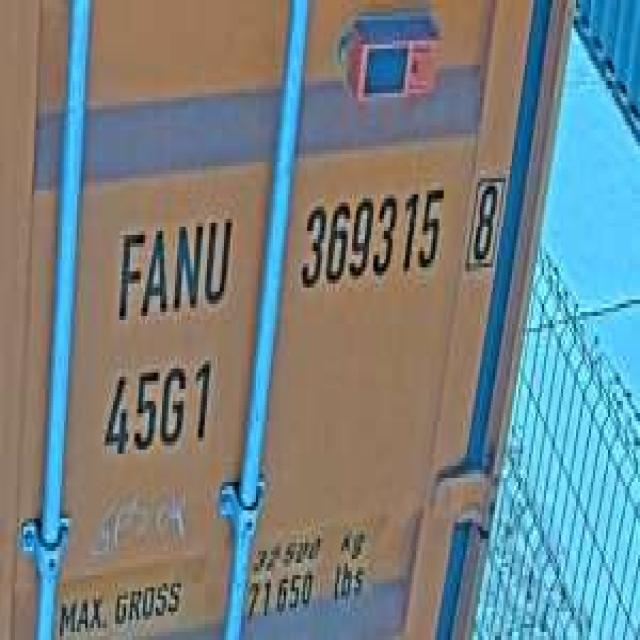dv: (460, 158, 506, 279)
owner: (106, 203, 236, 328)
serial: (294, 170, 446, 292)
size: (96, 348, 218, 462)
